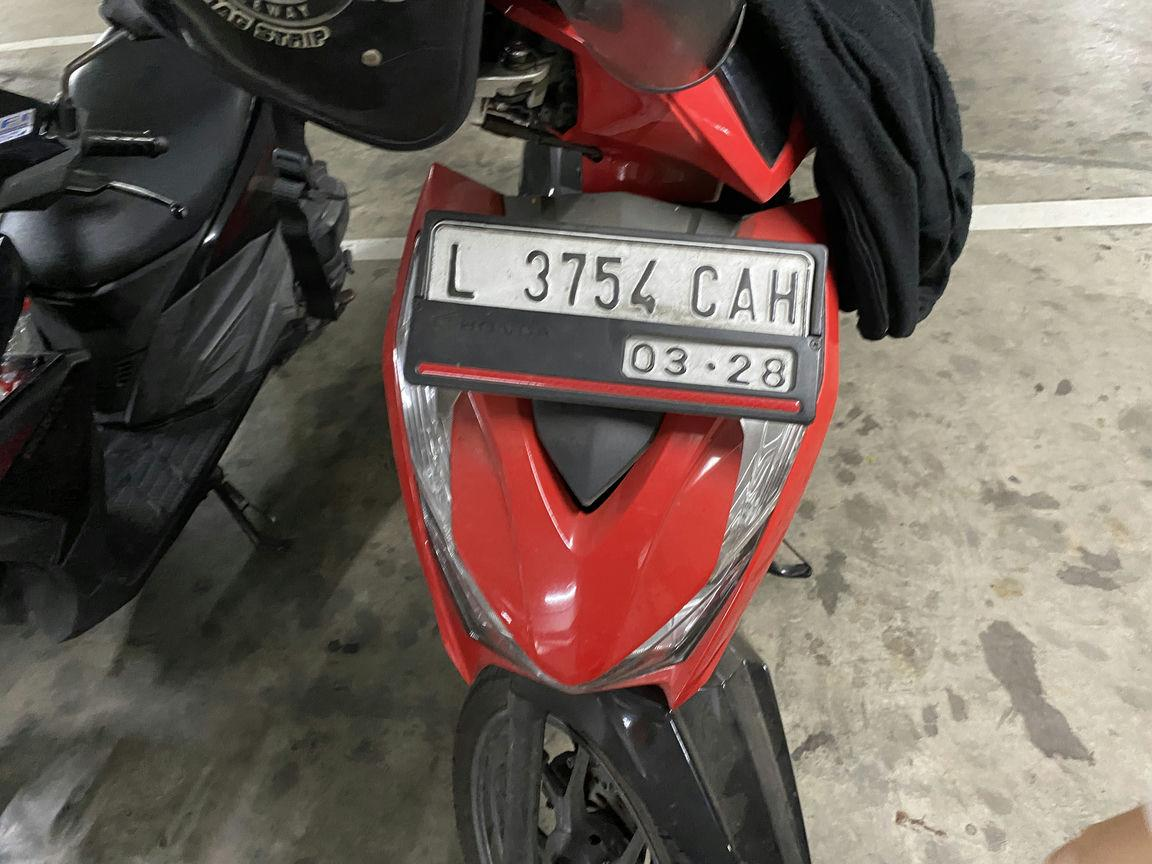plat: (405, 214, 826, 423)
